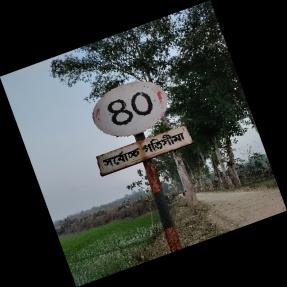Speed-limit: (91, 79, 193, 176)
